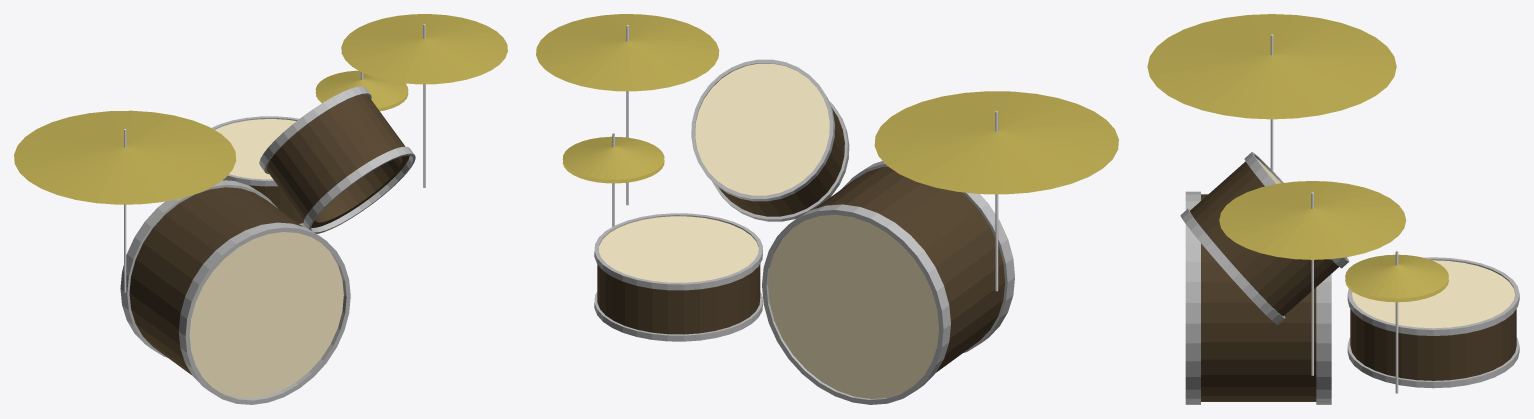
Rendered from drumSet.fbx.
3 renders of one model, left to right at view 1: azimuth 30°, elevation 25°; view 2: azimuth 150°, elevation 25°; view 3: azimuth 270°, elevation 25°, orthographic. The views are drawn at different scales.
Visible parts, largest first — view 1: bassHeadFront, rideCymbal, bassBody, drum body.002, crashCymbal, bassRimFront, drumHead, bottom rim.002, bassRimBack, hiTop, top rim.002, top rim (+1 smaller); view 2: bassHeadBack, rideCymbal, drumHead.002, bassBody, crashCymbal, drumHead, drum body, bassRimBack, hiTop, drum body.002, top rim, top rim.002 (+3 smaller); view 3: rideCymbal, bassBody, crashCymbal, drum body, drum body.002, drumHead, hiTop, bassRimFront, top rim, bassRimBack, bottom rim.002, bottom rim (+4 smaller).
Boxes of the visible parts, left/top/right/bottom form: bassHeadFront: left=189, top=232, right=343, bottom=398; rideCymbal: left=14, top=110, right=236, bottom=204; bassBody: left=129, top=187, right=302, bottom=374; drum body.002: left=266, top=95, right=409, bottom=227; crashCymbal: left=341, top=14, right=507, bottom=84; bassRimFront: left=178, top=222, right=350, bottom=404; drumHead: left=215, top=119, right=296, bottom=179; bottom rim.002: left=303, top=146, right=415, bottom=233; bassRimBack: left=120, top=180, right=278, bottom=357; hiTop: left=315, top=70, right=408, bottom=108; top rim.002: left=259, top=86, right=371, bottom=173; top rim: left=211, top=116, right=299, bottom=186; bassHeadBack: left=768, top=214, right=938, bottom=398; rideCymbal: left=874, top=91, right=1118, bottom=194; drumHead.002: left=695, top=63, right=829, bottom=195; bassBody: left=815, top=166, right=1004, bottom=372; crashCymbal: left=536, top=14, right=719, bottom=91; drumHead: left=598, top=216, right=758, bottom=282; drum body: left=597, top=264, right=760, bottom=334; bassRimBack: left=762, top=204, right=950, bottom=404; hiTop: left=562, top=136, right=664, bottom=179; drum body.002: left=719, top=107, right=844, bottom=216; top rim: left=594, top=213, right=762, bottom=290; top rim.002: left=691, top=59, right=834, bottom=201; rideCymbal: left=1147, top=14, right=1396, bottom=119; bassBody: left=1201, top=194, right=1316, bottom=401; crashCymbal: left=1219, top=181, right=1406, bottom=259; drum body: left=1350, top=309, right=1516, bottom=380; drum body.002: left=1190, top=161, right=1338, bottom=316; drumHead: left=1352, top=260, right=1514, bottom=328; hiTop: left=1345, top=254, right=1448, bottom=298; bassRimFront: left=1185, top=191, right=1200, bottom=404; top rim: left=1347, top=257, right=1519, bottom=335; bassRimBack: left=1316, top=274, right=1331, bottom=404; bottom rim.002: left=1180, top=208, right=1285, bottom=324; bottom rim: left=1347, top=337, right=1519, bottom=388.
Bounding box in the file's own units: 1513 × 846 × 895.
